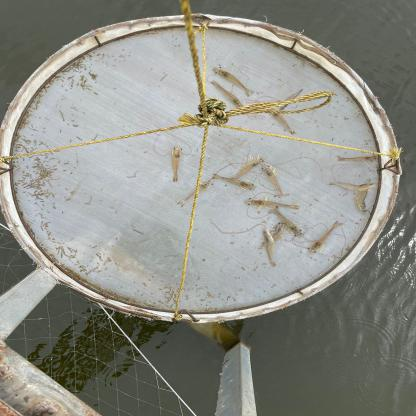shrimp: (212, 66, 255, 96), (306, 221, 343, 255), (269, 206, 303, 237), (176, 180, 214, 207), (262, 164, 291, 198), (211, 80, 244, 109), (227, 157, 265, 179), (260, 222, 287, 249), (211, 174, 255, 190), (243, 198, 300, 210), (277, 88, 303, 112), (272, 109, 295, 136), (263, 227, 277, 267), (355, 179, 371, 213), (329, 181, 379, 190), (172, 145, 183, 182), (338, 155, 379, 162)
